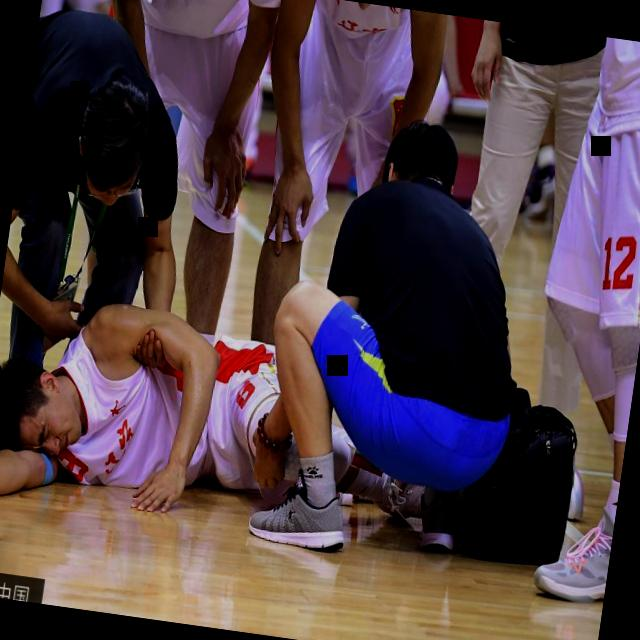Fall-Detected: (0, 267, 466, 563)
